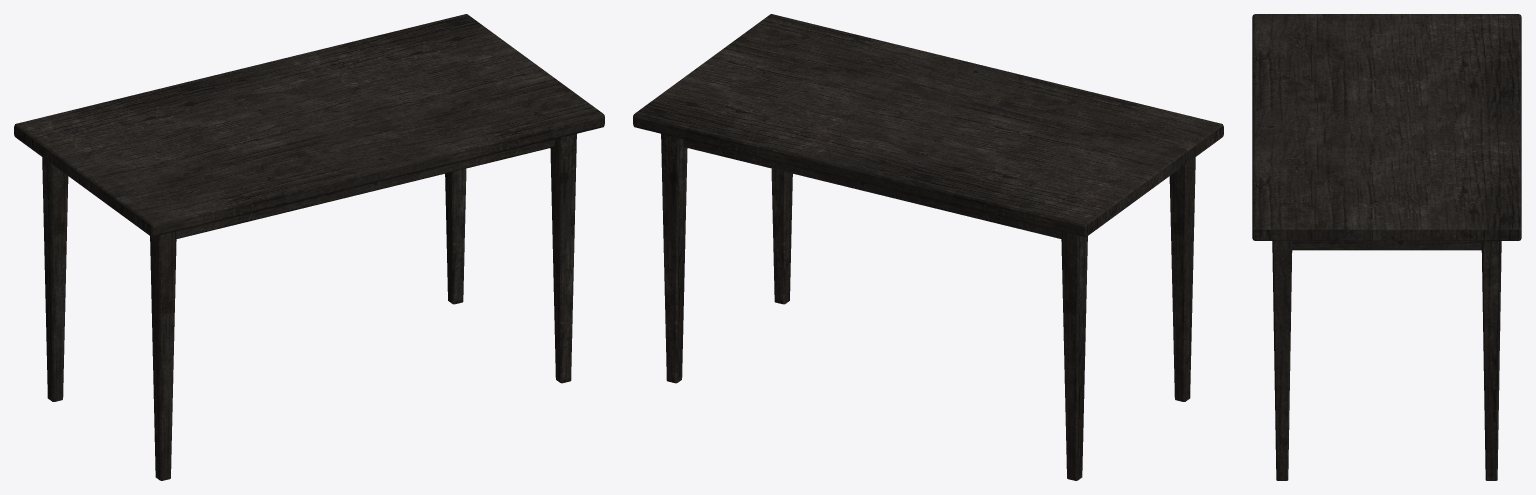
File: table_large_3.obj
3 renders of one model, left to right at view 1: azimuth 30°, elevation 25°; view 2: azimuth 150°, elevation 25°; view 3: azimuth 270°, elevation 25°, orthographic. The views are drawn at different scales.
Visible parts, largest first — view 1: table_large_3; view 2: table_large_3; view 3: table_large_3.
Part boxes in pixels (left/top/right/bottom): table_large_3: left=14, top=14, right=604, bottom=480; table_large_3: left=633, top=14, right=1223, bottom=480; table_large_3: left=1252, top=14, right=1521, bottom=480.
Bounding box in the file's own units: 1.7 × 0.97 × 0.9.
